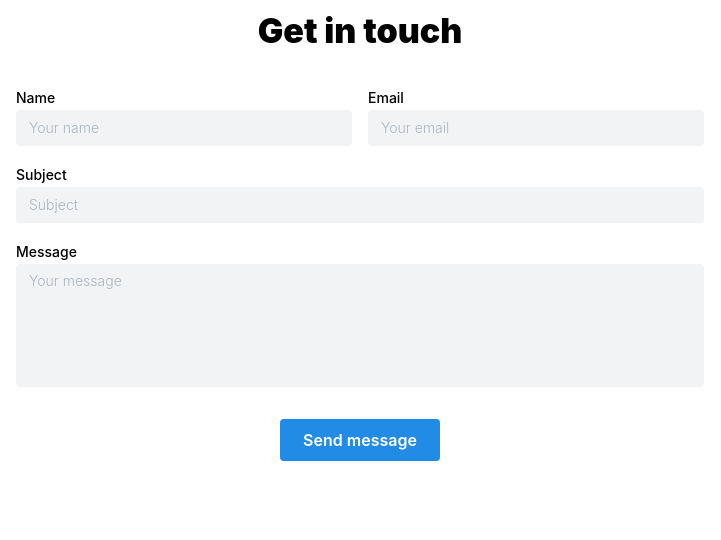
Test: Contact form — validation › shows an error when name is less than 2 characters
Type "A" into the field labelled "Name". click: (184, 128)
box: [16,110,352,146]
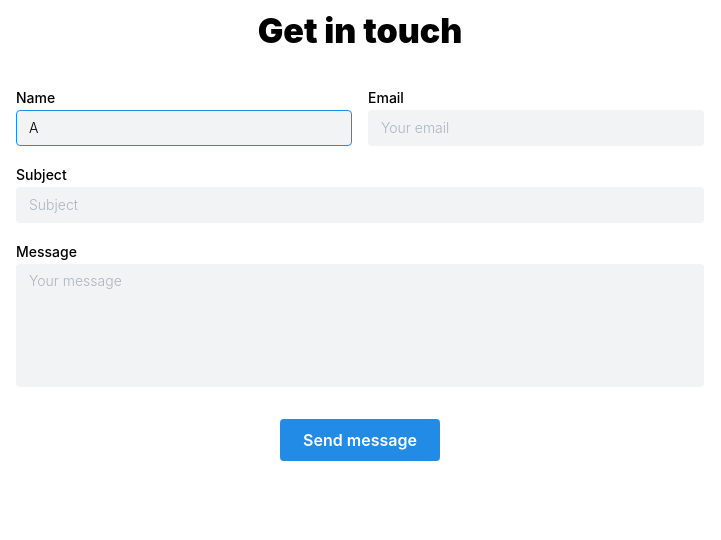
Click the button "Send message". click: (360, 440)
box: [280,419,440,461]
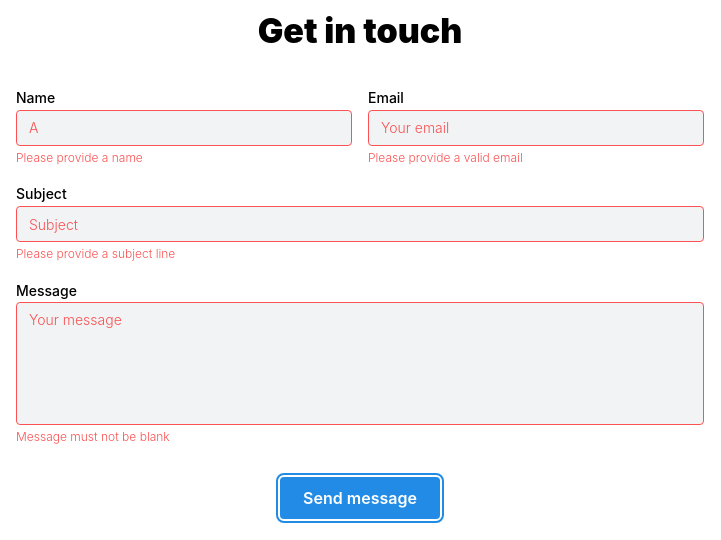
Expected: the text "Please provide a name" is shown, [16,150,143,165]
